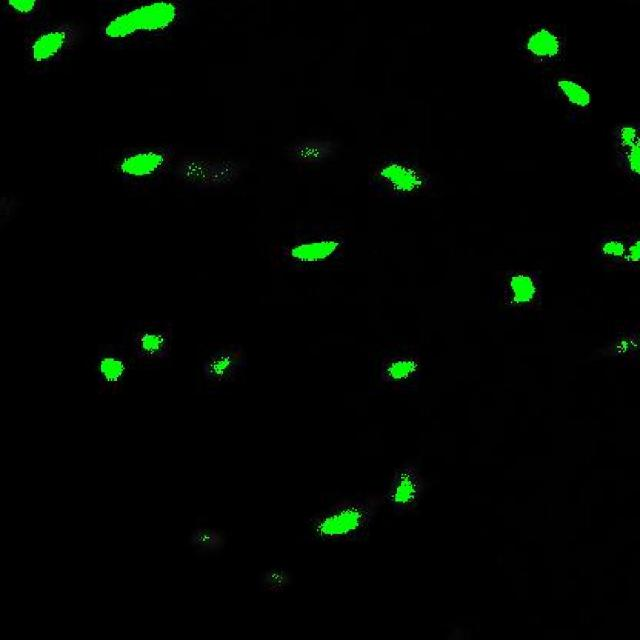Cell: (105, 4, 180, 39), (320, 510, 362, 538), (34, 31, 62, 63), (529, 32, 563, 57), (294, 241, 340, 258), (564, 82, 590, 109), (512, 277, 536, 304), (126, 157, 161, 175), (99, 356, 123, 379), (390, 359, 412, 381)
